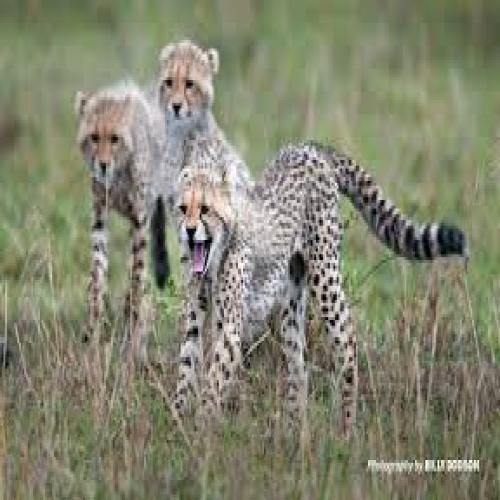cheetah-endangered: (175, 142, 465, 410), (76, 84, 169, 348), (159, 41, 258, 192)
